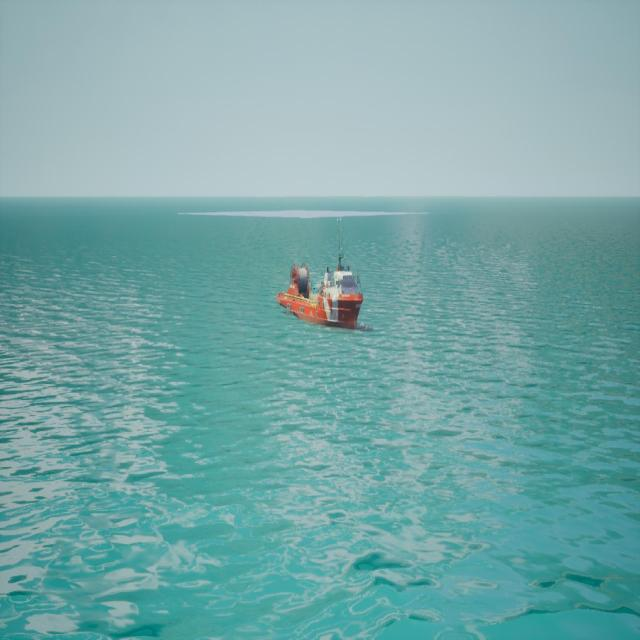tug boat: (277, 220, 369, 335)
